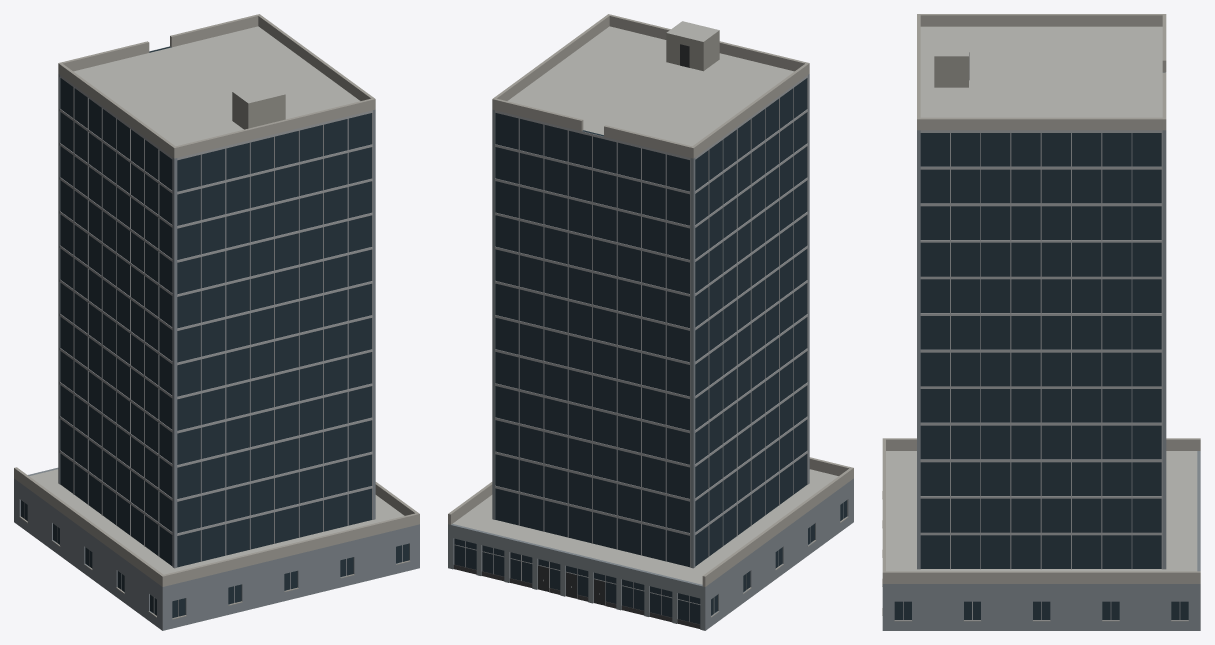
The model's file is bld_t5_tower_ch12.glb.
3 renders of one model, left to right at view 1: azimuth 30°, elevation 25°; view 2: azimuth 150°, elevation 25°; view 3: azimuth 270°, elevation 25°, orthographic. The views are drawn at different scales.
Parts seen in each view (by area): view 1: bld_t5_tower_ch12-col; view 2: bld_t5_tower_ch12-col; view 3: bld_t5_tower_ch12-col.
Boxes of the visible parts, x1=… form: bld_t5_tower_ch12-col: x1=14, y1=14, x2=419, y2=630; bld_t5_tower_ch12-col: x1=448, y1=14, x2=853, y2=630; bld_t5_tower_ch12-col: x1=882, y1=14, x2=1200, y2=630.
Bounding box in the file's own units: 27.66 × 49.5 × 27.63.
